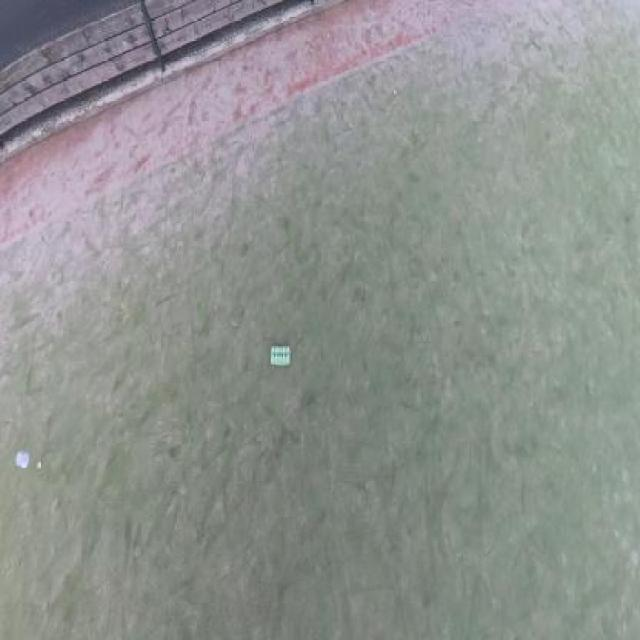Garbage: (270, 346, 291, 366), (16, 452, 29, 468), (37, 460, 41, 469)
